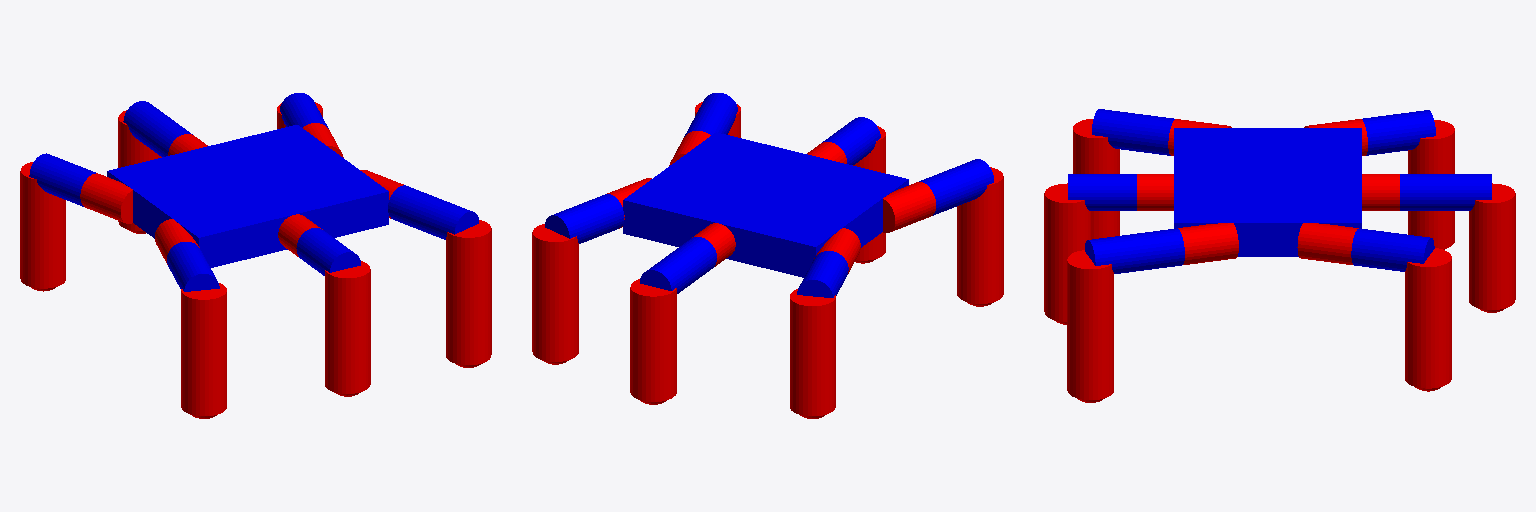
--- Facts derived from the render (not from the file) ---
Views: 3 orthographic renders of the robot side by side, from view 1: azimuth 30°, elevation 25°; view 2: azimuth 150°, elevation 25°; view 3: azimuth 270°, elevation 25°.
Model pexod with 19 links and 18 joints (18 revolute), rooted at base_link, posed every joint at zero.
Visible links, largest first — view 1: base_link, leg_3_3, leg_5_3, leg_4_3, leg_0_3, leg_3_2, leg_1_2, leg_0_2, leg_0_1, leg_4_2, leg_5_2, leg_1_3 (+3 smaller); view 2: base_link, leg_2_3, leg_0_3, leg_1_3, leg_5_3, leg_1_2, leg_2_2, leg_5_2, leg_5_1, leg_0_2, leg_4_2, leg_3_2 (+3 smaller); view 3: base_link, leg_3_3, leg_2_3, leg_1_3, leg_4_3, leg_3_2, leg_0_3, leg_1_2, leg_5_2, leg_5_3, leg_2_2, leg_0_2 (+5 smaller).
Link boxes in pixels (left/top/right/bottom): base_link: left=107, top=125, right=388, bottom=267; leg_3_3: left=446, top=220, right=491, bottom=367; leg_5_3: left=181, top=283, right=226, bottom=418; leg_4_3: left=325, top=261, right=370, bottom=396; leg_0_3: left=20, top=162, right=65, bottom=291; leg_3_2: left=388, top=185, right=478, bottom=239; leg_1_2: left=123, top=101, right=192, bottom=156; leg_0_2: left=29, top=153, right=95, bottom=206; leg_0_1: left=80, top=173, right=132, bottom=223; leg_4_2: left=296, top=228, right=360, bottom=275; leg_5_2: left=167, top=242, right=219, bottom=291; leg_1_3: left=118, top=110, right=161, bottom=233; base_link: left=623, top=132, right=908, bottom=277; leg_2_3: left=532, top=224, right=578, bottom=364; leg_0_3: left=790, top=289, right=835, bottom=418; leg_1_3: left=630, top=279, right=676, bottom=404; leg_5_3: left=957, top=167, right=1003, bottom=306; leg_1_2: left=640, top=237, right=716, bottom=293; leg_2_2: left=545, top=194, right=624, bottom=243; leg_5_2: left=919, top=159, right=993, bottom=215; leg_5_1: left=883, top=182, right=935, bottom=232; leg_0_2: left=797, top=251, right=848, bottom=297; leg_4_2: left=822, top=117, right=880, bottom=164; leg_3_2: left=684, top=93, right=737, bottom=136; base_link: left=1174, top=128, right=1361, bottom=256; leg_3_3: left=1067, top=250, right=1113, bottom=402; leg_2_3: left=1405, top=248, right=1451, bottom=391; leg_1_3: left=1469, top=183, right=1515, bottom=312; leg_4_3: left=1044, top=183, right=1090, bottom=324; leg_3_2: left=1085, top=228, right=1184, bottom=273; leg_0_3: left=1408, top=120, right=1454, bottom=249; leg_1_2: left=1400, top=174, right=1491, bottom=210; leg_5_2: left=1092, top=109, right=1174, bottom=155; leg_5_3: left=1073, top=119, right=1119, bottom=239; leg_2_2: left=1351, top=228, right=1434, bottom=271; leg_0_2: left=1362, top=110, right=1435, bottom=155.
Bounding box of the posed robot: 0.3799 × 0.501 × 0.186 m (x, y, z).
Geometry: primitives only (box / cylinder / sphere), no mesh files.

robot.urdf — pexod:
<?xml version="1.0" ?>
<!-- =================================================================================== -->
<!-- |    This document was autogenerated by xacro from pexod.xacro                    | -->
<!-- |    EDITING THIS FILE BY HAND IS NOT RECOMMENDED                                 | -->
<!-- =================================================================================== -->
<robot name="pexod" xmlns:xacro="http://www.ros.org/wiki/xacro">
  <!-- <xacro:include filename="$(find pexod_description)/urdf/pexod_control.xacro" /> -->
  <!-- MATERIALS -->
  <material name="Blue">
    <color rgba="0 0 1 1"/>
  </material>
  <material name="Red">
    <color rgba="1 0 0 1"/>
  </material>
  <material name="Green">
    <color rgba="0 1 0 1"/>
  </material>
  <material name="Yellow">
    <color rgba="1 1 0 1"/>
  </material>
  <material name="LightGrey">
    <color rgba="0.6 0.6 0.6 1.0"/>
  </material>
  <!-- END OF MATERIALS -->
  <!-- XACRO MACROS FOR VISUALS AND COLLISIONS -->
  <!-- END OF XACRO MACROS -->
  <!-- TORSO -->
  <link name="base_link">
    <visual>
      <origin rpy="0 0 0" xyz="0 0 0"/>
      <geometry>
        <box size="0.24 0.2 0.04"/>
      </geometry>
      <material name="Blue"/>
    </visual>
    <collision>
      <origin rpy="0 0 0" xyz="0 0 0"/>
      <geometry>
        <box size="0.24 0.2 0.04"/>
      </geometry>
    </collision>
    <inertial>
      <!-- CENTER OF MASS -->
      <origin rpy="0 0 0" xyz="0 0 0"/>
      <mass value="1.031"/>
      <!-- box inertia: 1/12*m(y^2+z^2), ... -->
      <inertia ixx="0.00357413333333" ixy="0" ixz="0" iyy="0.00508626666667" iyz="0" izz="0.00838546666667"/>
    </inertial>
  </link>
  <!-- XACRO MACRO FOR LEGS LINKS/JOINTS -->
  <!-- END OF LEG LINKS/JOINTS -->
  <joint name="body_leg_2" type="revolute">
    <parent link="base_link"/>
    <child link="leg_2_1"/>
    <limit effort="30.0" lower="-1.57079632679" upper="1.57079632679" velocity="7.0"/>
    <origin rpy="0 0 -0.3" xyz="0.11 0.04 0"/>
    <!-- <xacro:if value="${index == 5 or index == 4 or index == 3}">
                <axis xyz="0 0 1"/>
            </xacro:if>
            <xacro:if value="${index == 2 or index == 1 or index == 0}"> -->
    <axis xyz="0 0 1"/>
    <!-- </xacro:if> -->
    <dynamics damping="0.0"/>
  </joint>
  <link name="leg_2_1">
    <visual>
      <origin rpy="1.57079632679 0 0" xyz="0.01 0.03 0"/>
      <geometry>
        <cylinder length="0.06" radius="0.02"/>
      </geometry>
      <material name="Red"/>
    </visual>
    <collision>
      <origin rpy="1.57079632679 0 0" xyz="0.01 0.03 0"/>
      <geometry>
        <box size="0.02 0.02 0.06"/>
      </geometry>
    </collision>
    <inertial>
      <!-- CENTER OF MASS -->
      <origin rpy="1.57079632679 0 0" xyz="0.01 0.03 0"/>
      <mass value="0.02"/>
      <!-- box inertia: 1/12*m(y^2+z^2), ... -->
      <inertia ixx="6.66666666667e-06" ixy="0" ixz="0" iyy="6.66666666667e-06" iyz="0" izz="1.33333333333e-06"/>
    </inertial>
  </link>
  <joint name="leg_2_1_2" type="revolute">
    <parent link="leg_2_1"/>
    <child link="leg_2_2"/>
    <limit effort="30.0" lower="-0.78539816339" upper="0.78539816339" velocity="7.0"/>
    <origin rpy="0 0 0" xyz="0 0.06 0"/>
    <axis xyz="1 0 0"/>
    <dynamics damping="0.0"/>
  </joint>
  <link name="leg_2_2">
    <visual>
      <origin rpy="1.57079632679 0 0" xyz="0.01 0.0401463164873 0"/>
      <geometry>
        <cylinder length="0.0802926329746" radius="0.02"/>
      </geometry>
      <material name="Blue"/>
    </visual>
    <collision>
      <origin rpy="1.57079632679 0 0" xyz="0.01 0.0401463164873 0"/>
      <geometry>
        <box size="0.02 0.02 0.0802926329746"/>
      </geometry>
    </collision>
    <inertial>
      <!-- CENTER OF MASS -->
      <origin rpy="1.57079632679 0 0" xyz="0.01 0.0401463164873 0"/>
      <mass value="0.184"/>
      <!-- box inertia: 1/12*m(y^2+z^2), ... -->
      <inertia ixx="0.000104985905953" ixy="0" ixz="0" iyy="0.000104985905953" iyz="0" izz="1.22666666667e-05"/>
    </inertial>
  </link>
  <joint name="leg_2_2_3" type="revolute">
    <parent link="leg_2_2"/>
    <child link="leg_2_3"/>
    <limit effort="30.0" lower="-0.78539816339" upper="0.78539816339" velocity="7.0"/>
    <origin rpy="-1.57079632679 0 0" xyz="0 0.0802926329746 0"/>
    <axis xyz="-1 0 0"/>
    <dynamics damping="0.0"/>
  </joint>
  <link name="leg_2_3">
    <visual>
      <origin rpy="1.57079632679 0 0" xyz="0.0125 0.0712399577235 0"/>
      <geometry>
        <cylinder length="0.142479915447" radius="0.025"/>
      </geometry>
      <material name="Red"/>
    </visual>
    <visual>
      <origin rpy="1.57079632679 0 0" xyz="0.0125 0.129979915447 0"/>
      <geometry>
        <sphere radius="0.025"/>
      </geometry>
      <material name="Red"/>
    </visual>
    <collision>
      <origin rpy="1.57079632679 0 0" xyz="0.0125 0.0712399577235 0"/>
      <geometry>
        <box size="0.025 0.025 0.142479915447"/>
      </geometry>
    </collision>
    <collision>
      <origin rpy="1.57079632679 0 0" xyz="0.0125 0.129979915447 0"/>
      <geometry>
        <sphere radius="0.025"/>
      </geometry>
      <material name="Red"/>
    </collision>
    <inertial>
      <!-- CENTER OF MASS -->
      <origin rpy="1.57079632679 0 0" xyz="0.0125 0.0712399577235 0"/>
      <mass value="0.04"/>
      <!-- box inertia: 1/12*m(y^2+z^2), ... -->
      <inertia ixx="6.97517543526e-05" ixy="0" ixz="0" iyy="6.97517543526e-05" iyz="0" izz="4.16666666667e-06"/>
    </inertial>
  </link>
  <joint name="body_leg_3" type="revolute">
    <parent link="base_link"/>
    <child link="leg_3_1"/>
    <limit effort="30.0" lower="-1.57079632679" upper="1.57079632679" velocity="7.0"/>
    <origin rpy="0 0 0.3" xyz="0.11 -0.04 0"/>
    <!-- <xacro:if value="${index == 5 or index == 4 or index == 3}">
                <axis xyz="0 0 1"/>
            </xacro:if>
            <xacro:if value="${index == 2 or index == 1 or index == 0}"> -->
    <axis xyz="0 0 1"/>
    <!-- </xacro:if> -->
    <dynamics damping="0.0"/>
  </joint>
  <link name="leg_3_1">
    <visual>
      <origin rpy="1.57079632679 0 0" xyz="0.01 -0.03 0"/>
      <geometry>
        <cylinder length="0.06" radius="0.02"/>
      </geometry>
      <material name="Red"/>
    </visual>
    <collision>
      <origin rpy="1.57079632679 0 0" xyz="0.01 -0.03 0"/>
      <geometry>
        <box size="0.02 0.02 0.06"/>
      </geometry>
    </collision>
    <inertial>
      <!-- CENTER OF MASS -->
      <origin rpy="1.57079632679 0 0" xyz="0.01 -0.03 0"/>
      <mass value="0.02"/>
      <!-- box inertia: 1/12*m(y^2+z^2), ... -->
      <inertia ixx="6.66666666667e-06" ixy="0" ixz="0" iyy="6.66666666667e-06" iyz="0" izz="1.33333333333e-06"/>
    </inertial>
  </link>
  <joint name="leg_3_1_2" type="revolute">
    <parent link="leg_3_1"/>
    <child link="leg_3_2"/>
    <limit effort="30.0" lower="-0.78539816339" upper="0.78539816339" velocity="7.0"/>
    <origin rpy="0 0 0" xyz="0 -0.06 0"/>
    <axis xyz="-1 0 0"/>
    <dynamics damping="0.0"/>
  </joint>
  <link name="leg_3_2">
    <visual>
      <origin rpy="1.57079632679 0 0" xyz="0.01 -0.0497235626142 0"/>
      <geometry>
        <cylinder length="0.0994471252283" radius="0.02"/>
      </geometry>
      <material name="Blue"/>
    </visual>
    <collision>
      <origin rpy="1.57079632679 0 0" xyz="0.01 -0.0497235626142 0"/>
      <geometry>
        <box size="0.02 0.02 0.0994471252283"/>
      </geometry>
    </collision>
    <inertial>
      <!-- CENTER OF MASS -->
      <origin rpy="1.57079632679 0 0" xyz="0.01 -0.0497235626142 0"/>
      <mass value="0.184"/>
      <!-- box inertia: 1/12*m(y^2+z^2), ... -->
      <inertia ixx="0.000157775870981" ixy="0" ixz="0" iyy="0.000157775870981" iyz="0" izz="1.22666666667e-05"/>
    </inertial>
  </link>
  <joint name="leg_3_2_3" type="revolute">
    <parent link="leg_3_2"/>
    <child link="leg_3_3"/>
    <limit effort="30.0" lower="-0.78539816339" upper="0.78539816339" velocity="7.0"/>
    <origin rpy="1.57079632679 0 0" xyz="0 -0.0994471252283 0"/>
    <axis xyz="1 0 0"/>
    <dynamics damping="0.0"/>
  </joint>
  <link name="leg_3_3">
    <visual>
      <origin rpy="1.57079632679 0 0" xyz="0.0125 -0.076765636361 0"/>
      <geometry>
        <cylinder length="0.153531272722" radius="0.025"/>
      </geometry>
      <material name="Red"/>
    </visual>
    <visual>
      <origin rpy="1.57079632679 0 0" xyz="0.0125 -0.141031272722 0"/>
      <geometry>
        <sphere radius="0.025"/>
      </geometry>
      <material name="Red"/>
    </visual>
    <collision>
      <origin rpy="1.57079632679 0 0" xyz="0.0125 -0.076765636361 0"/>
      <geometry>
        <box size="0.025 0.025 0.153531272722"/>
      </geometry>
    </collision>
    <collision>
      <origin rpy="1.57079632679 0 0" xyz="0.0125 -0.141031272722 0"/>
      <geometry>
        <sphere radius="0.025"/>
      </geometry>
      <material name="Red"/>
    </collision>
    <inertial>
      <!-- CENTER OF MASS -->
      <origin rpy="1.57079632679 0 0" xyz="0.0125 -0.076765636361 0"/>
      <mass value="0.04"/>
      <!-- box inertia: 1/12*m(y^2+z^2), ... -->
      <inertia ixx="8.06561723455e-05" ixy="0" ixz="0" iyy="8.06561723455e-05" iyz="0" izz="4.16666666667e-06"/>
    </inertial>
  </link>
  <joint name="body_leg_0" type="revolute">
    <parent link="base_link"/>
    <child link="leg_0_1"/>
    <limit effort="30.0" lower="-1.57079632679" upper="1.57079632679" velocity="7.0"/>
    <origin rpy="0 0 0.3" xyz="-0.13 0.04 0"/>
    <!-- <xacro:if value="${index == 5 or index == 4 or index == 3}">
                <axis xyz="0 0 1"/>
            </xacro:if>
            <xacro:if value="${index == 2 or index == 1 or index == 0}"> -->
    <axis xyz="0 0 1"/>
    <!-- </xacro:if> -->
    <dynamics damping="0.0"/>
  </joint>
  <link name="leg_0_1">
    <visual>
      <origin rpy="1.57079632679 0 0" xyz="0.01 0.03 0"/>
      <geometry>
        <cylinder length="0.06" radius="0.02"/>
      </geometry>
      <material name="Red"/>
    </visual>
    <collision>
      <origin rpy="1.57079632679 0 0" xyz="0.01 0.03 0"/>
      <geometry>
        <box size="0.02 0.02 0.06"/>
      </geometry>
    </collision>
    <inertial>
      <!-- CENTER OF MASS -->
      <origin rpy="1.57079632679 0 0" xyz="0.01 0.03 0"/>
      <mass value="0.02"/>
      <!-- box inertia: 1/12*m(y^2+z^2), ... -->
      <inertia ixx="6.66666666667e-06" ixy="0" ixz="0" iyy="6.66666666667e-06" iyz="0" izz="1.33333333333e-06"/>
    </inertial>
  </link>
  <joint name="leg_0_1_2" type="revolute">
    <parent link="leg_0_1"/>
    <child link="leg_0_2"/>
    <limit effort="30.0" lower="-0.78539816339" upper="0.78539816339" velocity="7.0"/>
    <origin rpy="0 0 0" xyz="0 0.06 0"/>
    <axis xyz="1 0 0"/>
    <dynamics damping="0.0"/>
  </joint>
  <link name="leg_0_2">
    <visual>
      <origin rpy="1.57079632679 0 0" xyz="0.01 0.0379289952008 0"/>
      <geometry>
        <cylinder length="0.0758579904015" radius="0.02"/>
      </geometry>
      <material name="Blue"/>
    </visual>
    <collision>
      <origin rpy="1.57079632679 0 0" xyz="0.01 0.0379289952008 0"/>
      <geometry>
        <box size="0.02 0.02 0.0758579904015"/>
      </geometry>
    </collision>
    <inertial>
      <!-- CENTER OF MASS -->
      <origin rpy="1.57079632679 0 0" xyz="0.01 0.0379289952008 0"/>
      <mass value="0.184"/>
      <!-- box inertia: 1/12*m(y^2+z^2), ... -->
      <inertia ixx="9.43679988522e-05" ixy="0" ixz="0" iyy="9.43679988522e-05" iyz="0" izz="1.22666666667e-05"/>
    </inertial>
  </link>
  <joint name="leg_0_2_3" type="revolute">
    <parent link="leg_0_2"/>
    <child link="leg_0_3"/>
    <limit effort="30.0" lower="-0.78539816339" upper="0.78539816339" velocity="7.0"/>
    <origin rpy="-1.57079632679 0 0" xyz="0 0.0758579904015 0"/>
    <axis xyz="-1 0 0"/>
    <dynamics damping="0.0"/>
  </joint>
  <link name="leg_0_3">
    <visual>
      <origin rpy="1.57079632679 0 0" xyz="0.0125 0.065521655073 0"/>
      <geometry>
        <cylinder length="0.131043310146" radius="0.025"/>
      </geometry>
      <material name="Red"/>
    </visual>
    <visual>
      <origin rpy="1.57079632679 0 0" xyz="0.0125 0.118543310146 0"/>
      <geometry>
        <sphere radius="0.025"/>
      </geometry>
      <material name="Red"/>
    </visual>
    <collision>
      <origin rpy="1.57079632679 0 0" xyz="0.0125 0.065521655073 0"/>
      <geometry>
        <box size="0.025 0.025 0.131043310146"/>
      </geometry>
    </collision>
    <collision>
      <origin rpy="1.57079632679 0 0" xyz="0.0125 0.118543310146 0"/>
      <geometry>
        <sphere radius="0.025"/>
      </geometry>
      <material name="Red"/>
    </collision>
    <inertial>
      <!-- CENTER OF MASS -->
      <origin rpy="1.57079632679 0 0" xyz="0.0125 0.065521655073 0"/>
      <mass value="0.04"/>
      <!-- box inertia: 1/12*m(y^2+z^2), ... -->
      <inertia ixx="5.93244971134e-05" ixy="0" ixz="0" iyy="5.93244971134e-05" iyz="0" izz="4.16666666667e-06"/>
    </inertial>
  </link>
  <joint name="body_leg_5" type="revolute">
    <parent link="base_link"/>
    <child link="leg_5_1"/>
    <limit effort="30.0" lower="-1.57079632679" upper="1.57079632679" velocity="7.0"/>
    <origin rpy="0 0 -0.3" xyz="-0.13 -0.04 0"/>
    <!-- <xacro:if value="${index == 5 or index == 4 or index == 3}">
                <axis xyz="0 0 1"/>
            </xacro:if>
            <xacro:if value="${index == 2 or index == 1 or index == 0}"> -->
    <axis xyz="0 0 1"/>
    <!-- </xacro:if> -->
    <dynamics damping="0.0"/>
  </joint>
  <link name="leg_5_1">
    <visual>
      <origin rpy="1.57079632679 0 0" xyz="0.01 -0.03 0"/>
      <geometry>
        <cylinder length="0.06" radius="0.02"/>
      </geometry>
      <material name="Red"/>
    </visual>
    <collision>
      <origin rpy="1.57079632679 0 0" xyz="0.01 -0.03 0"/>
      <geometry>
        <box size="0.02 0.02 0.06"/>
      </geometry>
    </collision>
    <inertial>
      <!-- CENTER OF MASS -->
      <origin rpy="1.57079632679 0 0" xyz="0.01 -0.03 0"/>
      <mass value="0.02"/>
      <!-- box inertia: 1/12*m(y^2+z^2), ... -->
      <inertia ixx="6.66666666667e-06" ixy="0" ixz="0" iyy="6.66666666667e-06" iyz="0" izz="1.33333333333e-06"/>
    </inertial>
  </link>
  <joint name="leg_5_1_2" type="revolute">
    <parent link="leg_5_1"/>
    <child link="leg_5_2"/>
    <limit effort="30.0" lower="-0.78539816339" upper="0.78539816339" velocity="7.0"/>
    <origin rpy="0 0 0" xyz="0 -0.06 0"/>
    <axis xyz="-1 0 0"/>
    <dynamics damping="0.0"/>
  </joint>
  <link name="leg_5_2">
    <visual>
      <origin rpy="1.57079632679 0 0" xyz="0.01 -0.0427635729114 0"/>
      <geometry>
        <cylinder length="0.0855271458229" radius="0.02"/>
      </geometry>
      <material name="Blue"/>
    </visual>
    <collision>
      <origin rpy="1.57079632679 0 0" xyz="0.01 -0.0427635729114 0"/>
      <geometry>
        <box size="0.02 0.02 0.0855271458229"/>
      </geometry>
    </collision>
    <inertial>
      <!-- CENTER OF MASS -->
      <origin rpy="1.57079632679 0 0" xyz="0.01 -0.0427635729114 0"/>
      <mass value="0.184"/>
      <!-- box inertia: 1/12*m(y^2+z^2), ... -->
      <inertia ixx="0.00011829502098" ixy="0" ixz="0" iyy="0.00011829502098" iyz="0" izz="1.22666666667e-05"/>
    </inertial>
  </link>
  <joint name="leg_5_2_3" type="revolute">
    <parent link="leg_5_2"/>
    <child link="leg_5_3"/>
    <limit effort="30.0" lower="-0.78539816339" upper="0.78539816339" velocity="7.0"/>
    <origin rpy="1.57079632679 0 0" xyz="0 -0.0855271458229 0"/>
    <axis xyz="1 0 0"/>
    <dynamics damping="0.0"/>
  </joint>
  <link name="leg_5_3">
    <visual>
      <origin rpy="1.57079632679 0 0" xyz="0.0125 -0.070249707011 0"/>
      <geometry>
        <cylinder length="0.140499414022" radius="0.025"/>
      </geometry>
      <material name="Red"/>
    </visual>
    <visual>
      <origin rpy="1.57079632679 0 0" xyz="0.0125 -0.127999414022 0"/>
      <geometry>
        <sphere radius="0.025"/>
      </geometry>
      <material name="Red"/>
    </visual>
    <collision>
      <origin rpy="1.57079632679 0 0" xyz="0.0125 -0.070249707011 0"/>
      <geometry>
        <box size="0.025 0.025 0.140499414022"/>
      </geometry>
    </collision>
    <collision>
      <origin rpy="1.57079632679 0 0" xyz="0.0125 -0.127999414022 0"/>
      <geometry>
        <sphere radius="0.025"/>
      </geometry>
      <material name="Red"/>
    </collision>
    <inertial>
      <!-- CENTER OF MASS -->
      <origin rpy="1.57079632679 0 0" xyz="0.0125 -0.070249707011 0"/>
      <mass value="0.04"/>
      <!-- box inertia: 1/12*m(y^2+z^2), ... -->
      <inertia ixx="6.78836178018e-05" ixy="0" ixz="0" iyy="6.78836178018e-05" iyz="0" izz="4.16666666667e-06"/>
    </inertial>
  </link>
  <joint name="body_leg_1" type="revolute">
    <parent link="base_link"/>
    <child link="leg_1_1"/>
    <limit effort="30.0" lower="-1.57079632679" upper="1.57079632679" velocity="7.0"/>
    <origin rpy="0 0 0" xyz="-0.01 0.08 0"/>
    <!-- <xacro:if value="${index == 5 or index == 4 or index == 3}">
                <axis xyz="0 0 1"/>
            </xacro:if>
            <xacro:if value="${index == 2 or index == 1 or index == 0}"> -->
    <axis xyz="0 0 1"/>
    <!-- </xacro:if> -->
    <dynamics damping="0.0"/>
  </joint>
  <link name="leg_1_1">
    <visual>
      <origin rpy="1.57079632679 0 0" xyz="0.01 0.03 0"/>
      <geometry>
        <cylinder length="0.06" radius="0.02"/>
      </geometry>
      <material name="Red"/>
    </visual>
    <collision>
      <origin rpy="1.57079632679 0 0" xyz="0.01 0.03 0"/>
      <geometry>
        <box size="0.02 0.02 0.06"/>
      </geometry>
    </collision>
    <inertial>
      <!-- CENTER OF MASS -->
      <origin rpy="1.57079632679 0 0" xyz="0.01 0.03 0"/>
      <mass value="0.02"/>
      <!-- box inertia: 1/12*m(y^2+z^2), ... -->
      <inertia ixx="6.66666666667e-06" ixy="0" ixz="0" iyy="6.66666666667e-06" iyz="0" izz="1.33333333333e-06"/>
    </inertial>
  </link>
  <joint name="leg_1_1_2" type="revolute">
    <parent link="leg_1_1"/>
    <child link="leg_1_2"/>
    <limit effort="30.0" lower="-0.78539816339" upper="0.78539816339" velocity="7.0"/>
    <origin rpy="0 0 0" xyz="0 0.06 0"/>
    <axis xyz="1 0 0"/>
    <dynamics damping="0.0"/>
  </joint>
  <link name="leg_1_2">
    <visual>
      <origin rpy="1.57079632679 0 0" xyz="0.01 0.0490188229576 0"/>
      <geometry>
        <cylinder length="0.0980376459151" radius="0.02"/>
      </geometry>
      <material name="Blue"/>
    </visual>
    <collision>
      <origin rpy="1.57079632679 0 0" xyz="0.01 0.0490188229576 0"/>
      <geometry>
        <box size="0.02 0.02 0.0980376459151"/>
      </geometry>
    </collision>
    <inertial>
      <!-- CENTER OF MASS -->
      <origin rpy="1.57079632679 0 0" xyz="0.01 0.0490188229576 0"/>
      <mass value="0.184"/>
      <!-- box inertia: 1/12*m(y^2+z^2), ... -->
      <inertia ixx="0.000153507826921" ixy="0" ixz="0" iyy="0.000153507826921" iyz="0" izz="1.22666666667e-05"/>
    </inertial>
  </link>
  <joint name="leg_1_2_3" type="revolute">
    <parent link="leg_1_2"/>
    <child link="leg_1_3"/>
    <limit effort="30.0" lower="-0.78539816339" upper="0.78539816339" velocity="7.0"/>
    <origin rpy="-1.57079632679 0 0" xyz="0 0.0980376459151 0"/>
    <axis xyz="-1 0 0"/>
    <dynamics damping="0.0"/>
  </joint>
  <link name="leg_1_3">
    <visual>
      <origin rpy="1.57079632679 0 0" xyz="0.0125 0.062699072433 0"/>
      <geometry>
        <cylinder length="0.125398144866" radius="0.025"/>
      </geometry>
      <material name="Red"/>
    </visual>
    <visual>
      <origin rpy="1.57079632679 0 0" xyz="0.0125 0.112898144866 0"/>
      <geometry>
        <sphere radius="0.025"/>
      </geometry>
      <material name="Red"/>
    </visual>
    <collision>
      <origin rpy="1.57079632679 0 0" xyz="0.0125 0.062699072433 0"/>
      <geometry>
        <box size="0.025 0.025 0.125398144866"/>
      </geometry>
    </collision>
    <collision>
      <origin rpy="1.57079632679 0 0" xyz="0.0125 0.112898144866 0"/>
      <geometry>
        <sphere radius="0.025"/>
      </geometry>
      <material name="Red"/>
    </collision>
    <inertial>
      <!-- CENTER OF MASS -->
      <origin rpy="1.57079632679 0 0" xyz="0.0125 0.062699072433 0"/>
      <mass value="0.04"/>
      <!-- box inertia: 1/12*m(y^2+z^2), ... -->
      <inertia ixx="5.44989824528e-05" ixy="0" ixz="0" iyy="5.44989824528e-05" iyz="0" izz="4.16666666667e-06"/>
    </inertial>
  </link>
  <joint name="body_leg_4" type="revolute">
    <parent link="base_link"/>
    <child link="leg_4_1"/>
    <limit effort="30.0" lower="-1.57079632679" upper="1.57079632679" velocity="7.0"/>
    <origin rpy="0 0 0" xyz="-0.01 -0.08 0"/>
    <!-- <xacro:if value="${index == 5 or index == 4 or index == 3}">
                <axis xyz="0 0 1"/>
            </xacro:if>
            <xacro:if value="${index == 2 or index == 1 or index == 0}"> -->
    <axis xyz="0 0 1"/>
    <!-- </xacro:if> -->
    <dynamics damping="0.0"/>
  </joint>
  <link name="leg_4_1">
    <visual>
      <origin rpy="1.57079632679 0 0" xyz="0.01 -0.03 0"/>
      <geometry>
        <cylinder length="0.06" radius="0.02"/>
      </geometry>
      <material name="Red"/>
    </visual>
    <collision>
      <origin rpy="1.57079632679 0 0" xyz="0.01 -0.03 0"/>
      <geometry>
        <box size="0.02 0.02 0.06"/>
      </geometry>
    </collision>
    <inertial>
      <!-- CENTER OF MASS -->
      <origin rpy="1.57079632679 0 0" xyz="0.01 -0.03 0"/>
      <mass value="0.02"/>
      <!-- box inertia: 1/12*m(y^2+z^2), ... -->
      <inertia ixx="6.66666666667e-06" ixy="0" ixz="0" iyy="6.66666666667e-06" iyz="0" izz="1.33333333333e-06"/>
    </inertial>
  </link>
  <joint name="leg_4_1_2" type="revolute">
    <parent link="leg_4_1"/>
    <child link="leg_4_2"/>
    <limit effort="30.0" lower="-0.78539816339" upper="0.78539816339" velocity="7.0"/>
    <origin rpy="0 0 0" xyz="0 -0.06 0"/>
    <axis xyz="-1 0 0"/>
    <dynamics damping="0.0"/>
  </joint>
  <link name="leg_4_2">
    <visual>
      <origin rpy="1.57079632679 0 0" xyz="0.01 -0.036471218928 0"/>
      <geometry>
        <cylinder length="0.0729424378561" radius="0.02"/>
      </geometry>
      <material name="Blue"/>
    </visual>
    <collision>
      <origin rpy="1.57079632679 0 0" xyz="0.01 -0.036471218928 0"/>
      <geometry>
        <box size="0.02 0.02 0.0729424378561"/>
      </geometry>
    </collision>
    <inertial>
      <!-- CENTER OF MASS -->
      <origin rpy="1.57079632679 0 0" xyz="0.01 -0.036471218928 0"/>
      <mass value="0.184"/>
      <!-- box inertia: 1/12*m(y^2+z^2), ... -->
      <inertia ixx="8.77158550193e-05" ixy="0" ixz="0" iyy="8.77158550193e-05" iyz="0" izz="1.22666666667e-05"/>
    </inertial>
  </link>
  <joint name="leg_4_2_3" type="revolute">
    <parent link="leg_4_2"/>
    <child link="leg_4_3"/>
    <limit effort="30.0" lower="-0.78539816339" upper="0.78539816339" velocity="7.0"/>
    <origin rpy="1.57079632679 0 0" xyz="0 -0.0729424378561 0"/>
    <axis xyz="1 0 0"/>
    <dynamics damping="0.0"/>
  </joint>
  <link name="leg_4_3">
    <visual>
      <origin rpy="1.57079632679 0 0" xyz="0.0125 -0.0697203957685 0"/>
      <geometry>
        <cylinder length="0.139440791537" radius="0.025"/>
      </geometry>
      <material name="Red"/>
    </visual>
    <visual>
      <origin rpy="1.57079632679 0 0" xyz="0.0125 -0.126940791537 0"/>
      <geometry>
        <sphere radius="0.025"/>
      </geometry>
      <material name="Red"/>
    </visual>
    <collision>
      <origin rpy="1.57079632679 0 0" xyz="0.0125 -0.0697203957685 0"/>
      <geometry>
        <box size="0.025 0.025 0.139440791537"/>
      </geometry>
    </collision>
    <collision>
      <origin rpy="1.57079632679 0 0" xyz="0.0125 -0.126940791537 0"/>
      <geometry>
        <sphere radius="0.025"/>
      </geometry>
      <material name="Red"/>
    </collision>
    <inertial>
      <!-- CENTER OF MASS -->
      <origin rpy="1.57079632679 0 0" xyz="0.0125 -0.0697203957685 0"/>
      <mass value="0.04"/>
      <!-- box inertia: 1/12*m(y^2+z^2), ... -->
      <inertia ixx="6.68957811482e-05" ixy="0" ixz="0" iyy="6.68957811482e-05" iyz="0" izz="4.16666666667e-06"/>
    </inertial>
  </link>
  <!-- END OF LEG LINKS/JOINTS -->
</robot>
